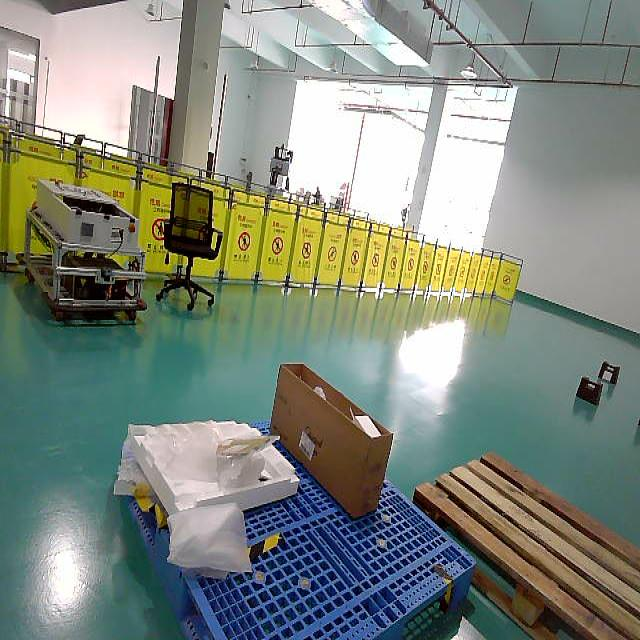euro: (414, 453, 639, 639)
